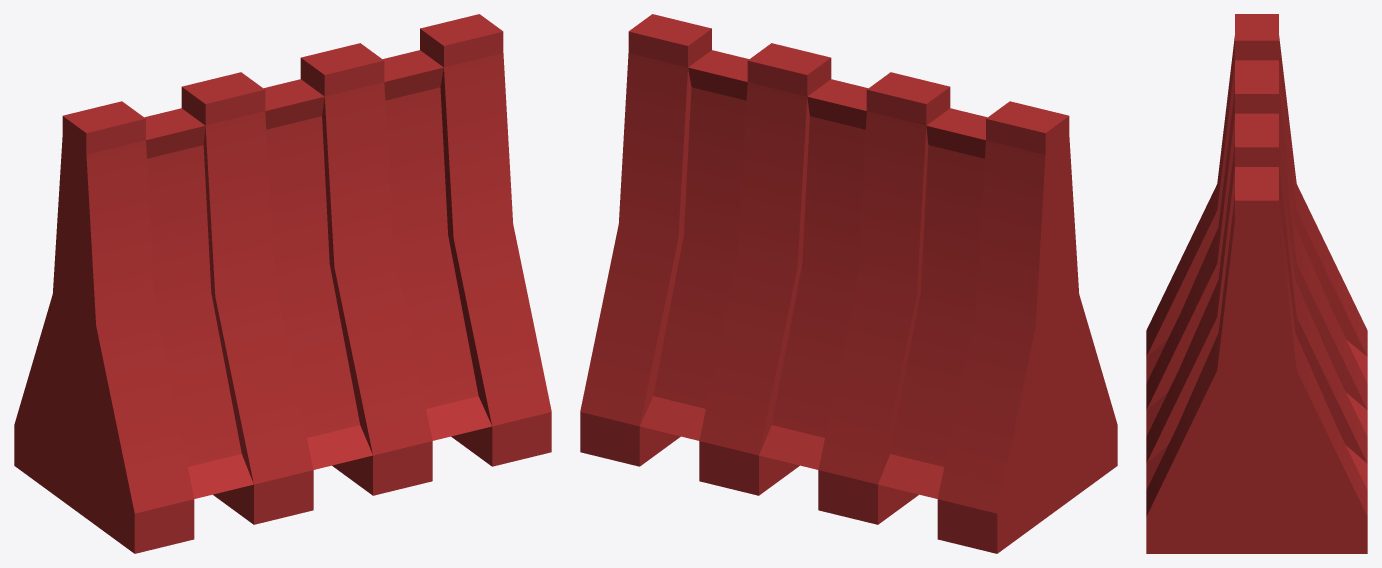
File: WhiiteBearrier.fbx
3 views of the same model, side by side, from view 1: azimuth 30°, elevation 25°; view 2: azimuth 150°, elevation 25°; view 3: azimuth 270°, elevation 25° (orthographic). The views are drawn at different scales.
Parts seen in each view (by area): view 1: bearrier; view 2: bearrier; view 3: bearrier.
Part boxes in pixels (x1,y1,x2,y2): bearrier: (14, 14, 551, 553); bearrier: (580, 14, 1117, 553); bearrier: (1146, 14, 1367, 553).
Size of the model in its own units: 3.62 by 3.2 by 1.81.
